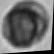correct: (0, 0, 48, 54)
